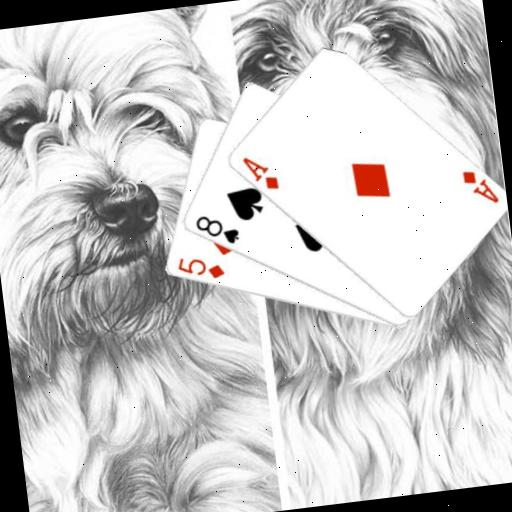5D: (173, 250, 227, 286)
8S: (191, 208, 242, 250)
AD: (238, 150, 281, 195), (458, 165, 500, 209)
